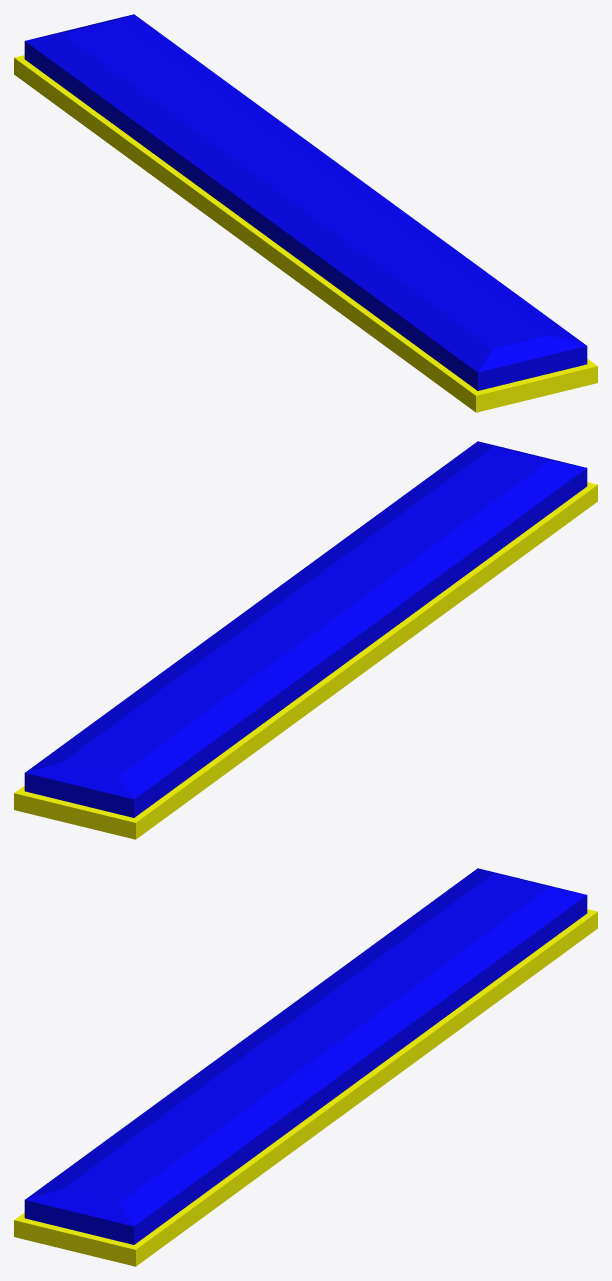
The model's file is CeilingLight.fbx.
3 views of the same model, one above another, from view 1: azimuth 30°, elevation 25°; view 2: azimuth 150°, elevation 25°; view 3: azimuth 330°, elevation 25° (orthographic).
Parts seen in each view (by area): view 1: ceiling_light_cover, base; view 2: ceiling_light_cover, base; view 3: ceiling_light_cover, base.
Boxes of the visible parts, x1,y1,x2,y2 form: ceiling_light_cover: (24,14,587,390); base: (14,55,597,412); ceiling_light_cover: (24,441,587,817); base: (14,482,597,839); ceiling_light_cover: (24,868,587,1244); base: (14,909,597,1266).
Bounding box in the file's own units: 0.9317 × 0.3245 × 6.12.
